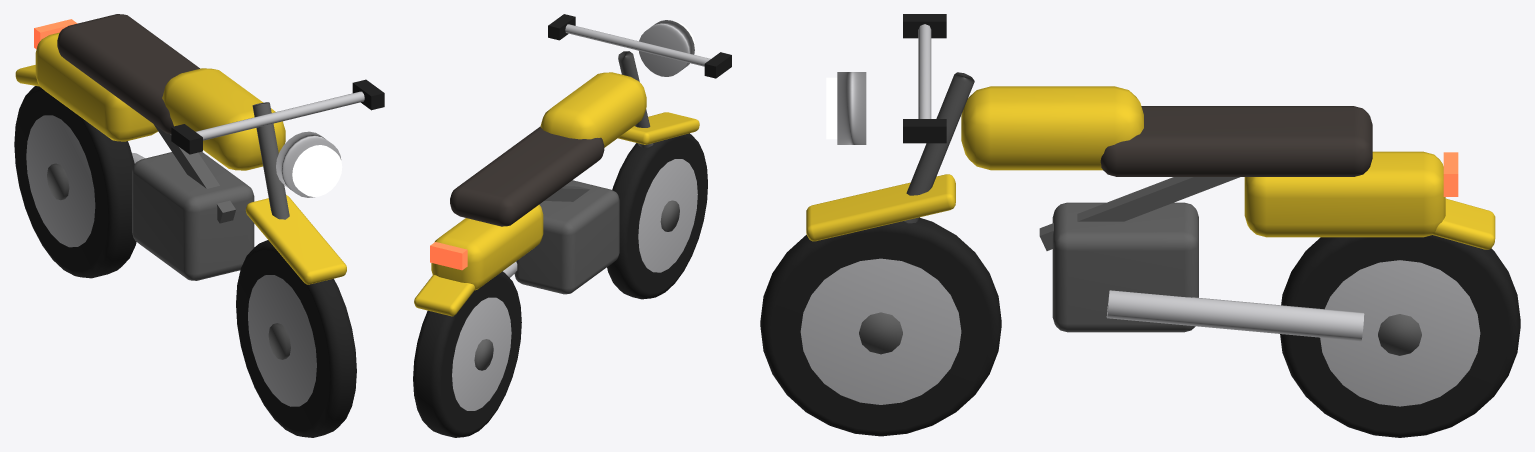
The model's file is okada.glb.
3 views of the same model, side by side, from view 1: azimuth 30°, elevation 25°; view 2: azimuth 150°, elevation 25°; view 3: azimuth 270°, elevation 25° (orthographic). The views are drawn at different scales.
Parts seen in each view (by area): view 1: V_okada; view 2: V_okada; view 3: V_okada.
Part boxes in pixels (<box>): V_okada: <box>14,14,384,437</box>; V_okada: <box>413,14,731,437</box>; V_okada: <box>760,14,1520,437</box>.
Bounding box in the file's own units: 0.73 × 1.1 × 2.08.
